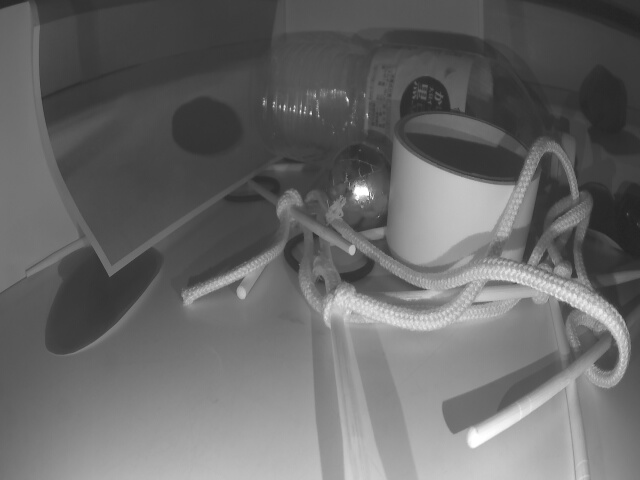Live: (329, 146, 390, 227)
